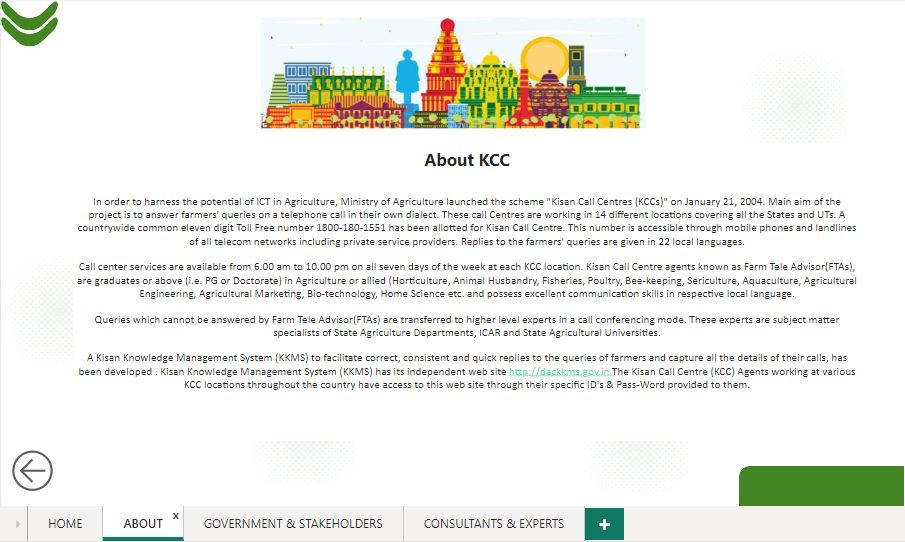

This screenshot's page, from the dashboard's own definition file:
{"tool":"powerbi","page":{"name":"ABOUT","canvas":[1280,720],"ordinal":1},"visuals":[{"type":"image","box":[640.6,43.9,160.2,160.2],"z":0},{"type":"image","box":[820.6,547.1,160.2,160.2],"z":1000},{"type":"image","box":[1046,69.4,160.2,160.2],"z":2000},{"type":"image","box":[751.2,350.1,160.2,160.2],"z":3000},{"type":"image","box":[1021.9,453.5,160.2,160.2],"z":4000},{"type":"image","box":[0,360,160.2,160.2],"z":5000},{"type":"image","box":[347.2,534.3,160.2,160.2],"z":6000},{"type":"shape","box":[1046,663.3,233.9,56.7],"z":7000},{"type":"textbox","box":[102,206.9,1116.9,420.9],"z":8000},{"type":"image","box":[362.8,22.7,555.6,167.2],"z":9000},{"type":"actionButton","box":[8.5,627.9,72.3,83.6],"z":10000},{"type":"shape","box":[0,0,80.8,55.3],"z":11000},{"type":"shape","box":[0,22.7,80.8,55.3],"z":12000}]}

Visuals, with their boxes on the page's 1280x720 design canvas (x1, y1, x2, y2). These are canvas units, not pixel positions in the 905x542 screenshot, which may show the page scaled, cropped or inside an application window:
image: (641, 44, 801, 204)
image: (821, 547, 981, 707)
image: (1046, 69, 1206, 230)
image: (751, 350, 911, 510)
image: (1022, 454, 1182, 614)
image: (0, 360, 160, 520)
image: (347, 534, 507, 694)
shape: (1046, 663, 1280, 720)
textbox: (102, 207, 1219, 628)
image: (363, 23, 918, 190)
actionButton: (8, 628, 81, 712)
shape: (0, 0, 81, 55)
shape: (0, 23, 81, 78)
